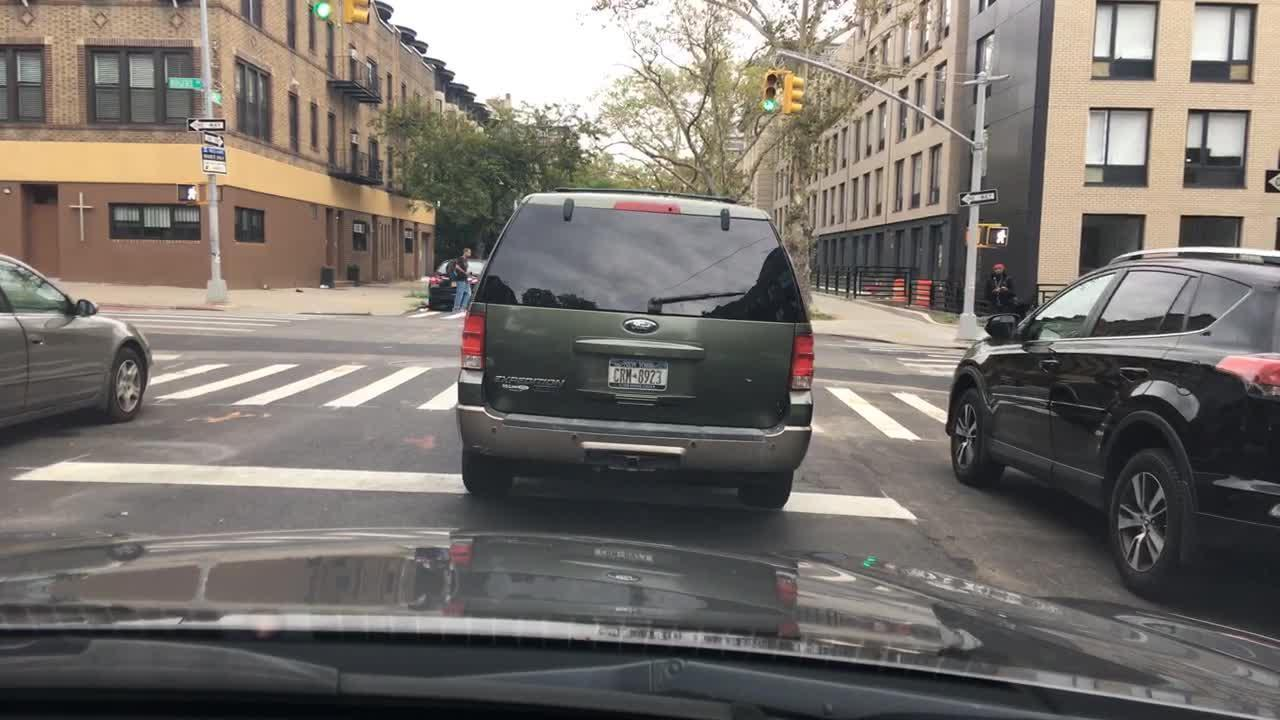ford: (618, 312, 673, 345)
